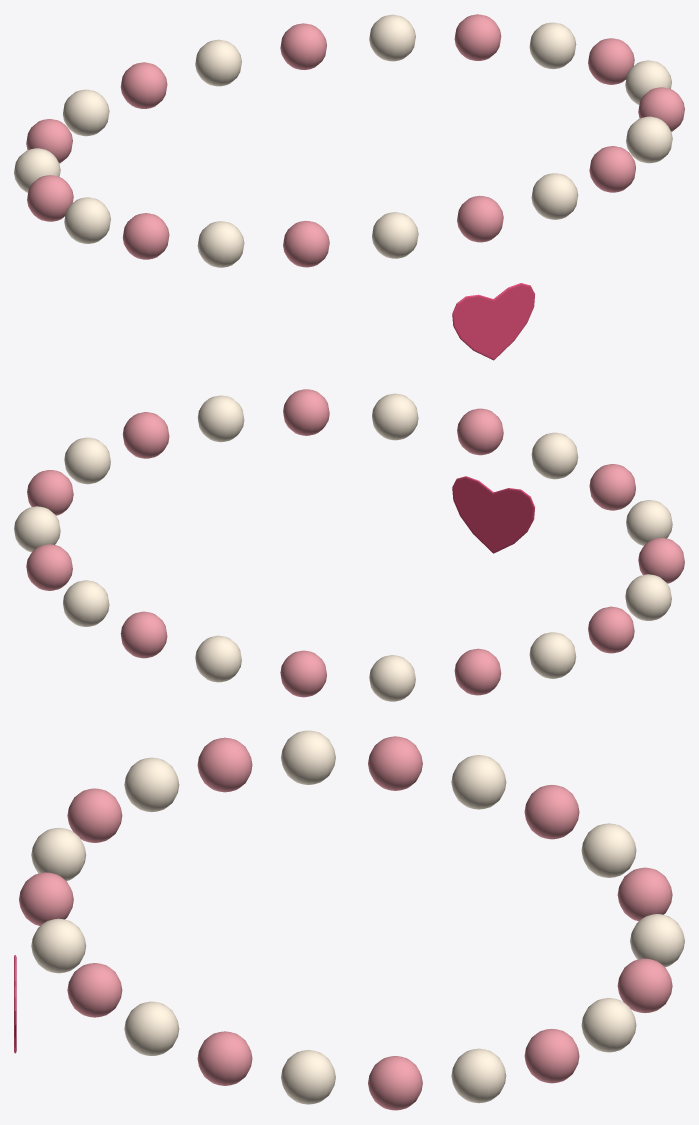
The model's file is necklace_heart.glb.
3 renders of one model, top to bottom at view 1: azimuth 30°, elevation 25°; view 2: azimuth 150°, elevation 25°; view 3: azimuth 270°, elevation 25°, orthographic. The views are drawn at different scales.
Visible parts, largest first — view 1: Collar corazón; view 2: Collar corazón; view 3: Collar corazón.
Part boxes in pixels (x1,y1,x2,y2): Collar corazón: [14, 14, 684, 360]; Collar corazón: [14, 389, 684, 701]; Collar corazón: [14, 730, 684, 1110].
Bounding box in the file's own units: 0.5309 × 0.1288 × 0.4392.
